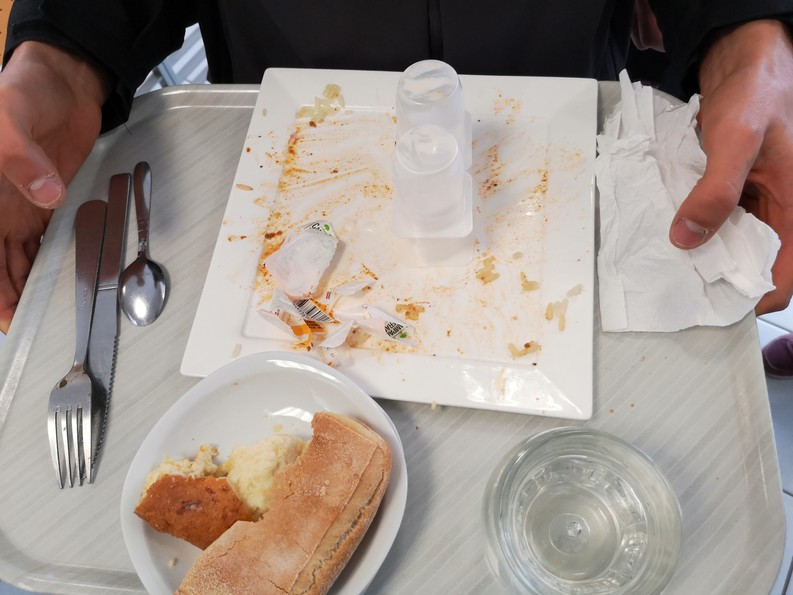orga: (163, 436, 370, 595)
trash: (600, 94, 775, 355), (273, 226, 412, 346), (387, 66, 481, 230)
